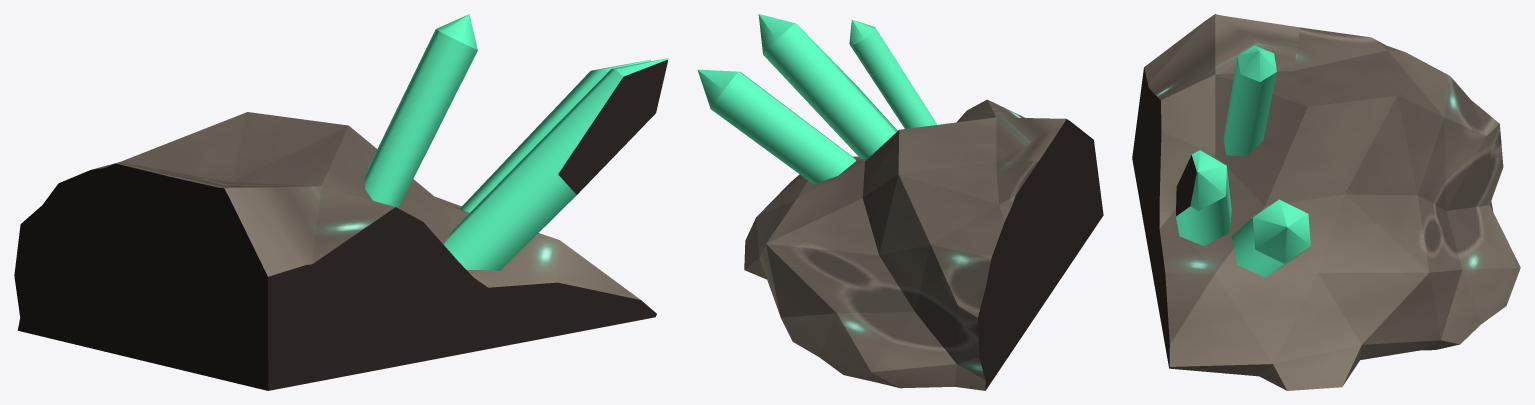
Rendered from cosmium_asteroid_debris1.obj.
3 views of the same model, side by side, from view 1: azimuth 30°, elevation 25°; view 2: azimuth 150°, elevation 25°; view 3: azimuth 270°, elevation 25° (orthographic). The views are drawn at different scales.
Visible parts, largest first — view 1: rock, crystal; view 2: rock, crystal; view 3: rock, crystal.
Boxes of the visible parts, x1=… form: rock: x1=14, y1=112, x2=656, y2=390; crystal: x1=365, y1=14, x2=668, y2=361; rock: x1=744, y1=99, x2=1103, y2=390; crystal: x1=697, y1=14, x2=937, y2=184; rock: x1=1132, y1=14, x2=1520, y2=390; crystal: x1=1147, y1=45, x2=1310, y2=277.
Size of the model in its own units: 66.02 by 43.49 by 49.39.
3 materials, 1 textured.
